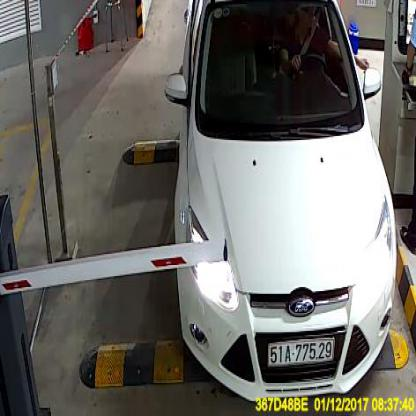biensoxe: (268, 339, 333, 365)
